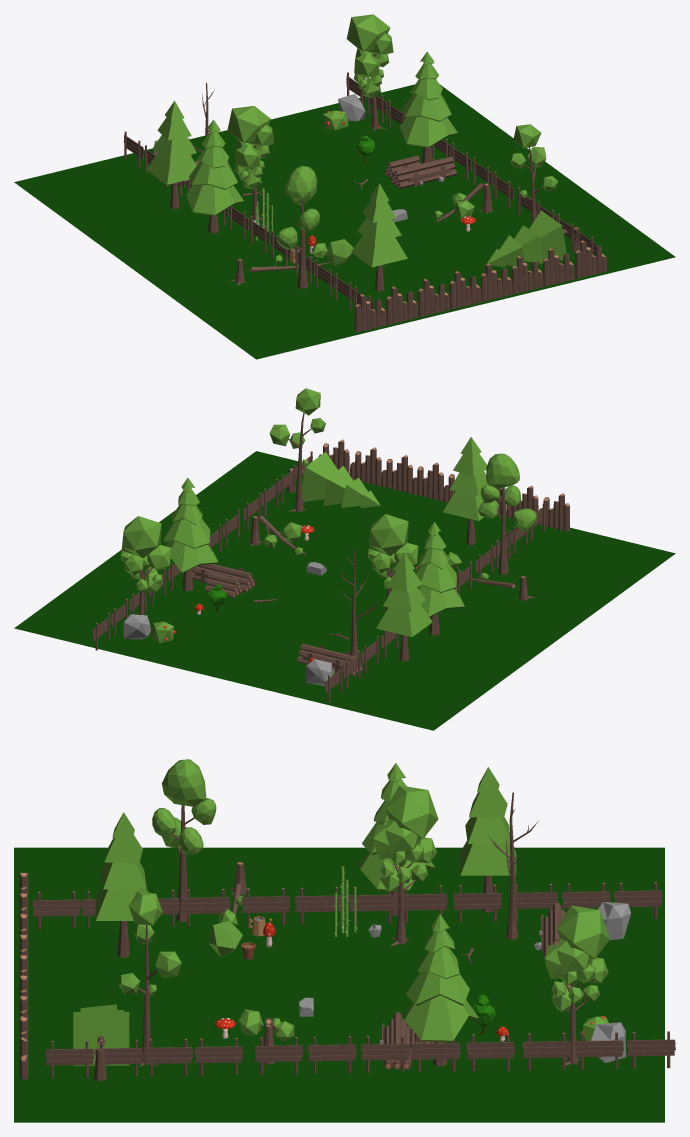
File: ForestMap.fbx
3 renders of one model, top to bottom at view 1: azimuth 30°, elevation 25°; view 2: azimuth 150°, elevation 25°; view 3: azimuth 270°, elevation 25°, orthographic. The views are drawn at different scales.
Parts seen in each view (by area): view 1: Ground_01, SpringTree_01__1_, SpringTree_01, SpringTree_06, SpringTree_06__1_, SpringTree_03__1_, SpringTree_03, FallenTree_04, SpringTree_04, SpringTree_05, TrunkStack_01, FallenTree_03 (+10 smaller); view 2: Ground_01, SpringTree_01, SpringTree_06, SpringTree_04, SpringTree_03, SpringTree_01__1_, FallenTree_04, SpringTree_03__1_, SpringTree_06__1_, SpringTree_05, FallenTree_02, TrunkStack_01__1_ (+10 smaller); view 3: Ground_01, SpringTree_01, SpringTree_06__1_, SpringTree_06, SpringTree_04, SpringTree_03, SpringTree_03__1_, SpringTree_05, FallenTree_04, SpringTree_01__1_, FallenTree_03, FallenTree_02 (+30 smaller).
Part boxes in pixels (x1=…): Ground_01: x1=14, y1=84, x2=675, y2=359; SpringTree_01__1_: x1=186, y1=120, x2=243, y2=233; SpringTree_01: x1=399, y1=51, x2=457, y2=163; SpringTree_06: x1=346, y1=14, x2=393, y2=131; SpringTree_06__1_: x1=227, y1=106, x2=274, y2=220; SpringTree_03__1_: x1=351, y1=183, x2=407, y2=291; SpringTree_03: x1=146, y1=100, x2=196, y2=208; FallenTree_04: x1=487, y1=210, x2=580, y2=267; SpringTree_04: x1=277, y1=165, x2=319, y2=288; SpringTree_05: x1=510, y1=124, x2=558, y2=224; TrunkStack_01: x1=391, y1=156, x2=456, y2=188; FallenTree_03: x1=230, y1=239, x2=353, y2=285; Ground_01: x1=14, y1=451, x2=675, y2=730; SpringTree_01: x1=163, y1=478, x2=218, y2=590; SpringTree_06: x1=121, y1=516, x2=171, y2=624; SpringTree_04: x1=477, y1=453, x2=536, y2=574; SpringTree_03: x1=376, y1=553, x2=432, y2=661; SpringTree_01__1_: x1=415, y1=522, x2=464, y2=635; FallenTree_04: x1=286, y1=452, x2=380, y2=508; SpringTree_03__1_: x1=443, y1=437, x2=499, y2=544; SpringTree_06__1_: x1=368, y1=514, x2=418, y2=611; SpringTree_05: x1=269, y1=388, x2=325, y2=513; FallenTree_02: x1=249, y1=515, x2=305, y2=555; TrunkStack_01__1_: x1=297, y1=643, x2=362, y2=676; Ground_01: x1=14, y1=847, x2=664, y2=1122; SpringTree_01: x1=402, y1=914, x2=479, y2=1066; SpringTree_06__1_: x1=373, y1=785, x2=438, y2=946; SpringTree_06: x1=545, y1=905, x2=609, y2=1066; SpringTree_04: x1=152, y1=759, x2=216, y2=921; SpringTree_03: x1=460, y1=767, x2=516, y2=912; SpringTree_03__1_: x1=95, y1=812, x2=148, y2=957; SpringTree_05: x1=118, y1=891, x2=181, y2=1066; FallenTree_04: x1=73, y1=1004, x2=129, y2=1080; SpringTree_01__1_: x1=358, y1=763, x2=435, y2=915; FallenTree_03: x1=208, y1=861, x2=248, y2=957; FallenTree_02: x1=238, y1=1009, x2=294, y2=1064.
Bounding box in the file's own units: 4000 × 1116 × 4068.
4 materials, 1 textured.
